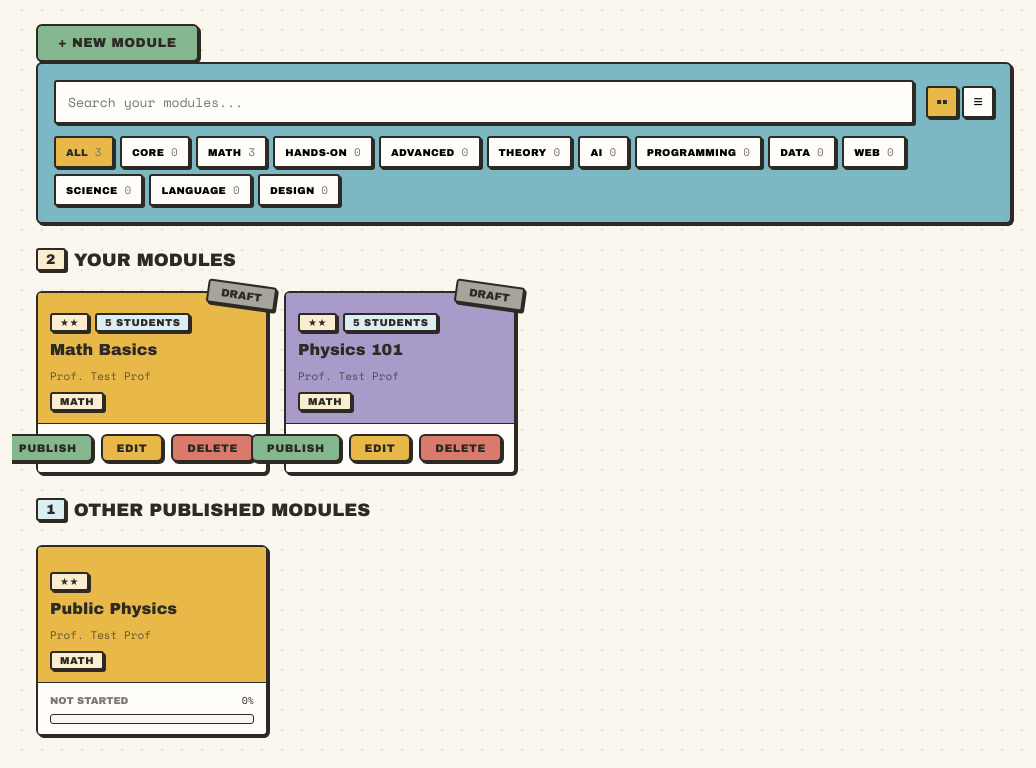
Test: ProfessorModules › search input filters visible modules
The width and height of the screenshot is (1036, 768).
Expected: the text "Math Basics" is shown, [50,341,157,358]
Step 1. Type "Physics" into the field with placeholder "Search your modules..." → (484, 102), box [54,80,914,124]
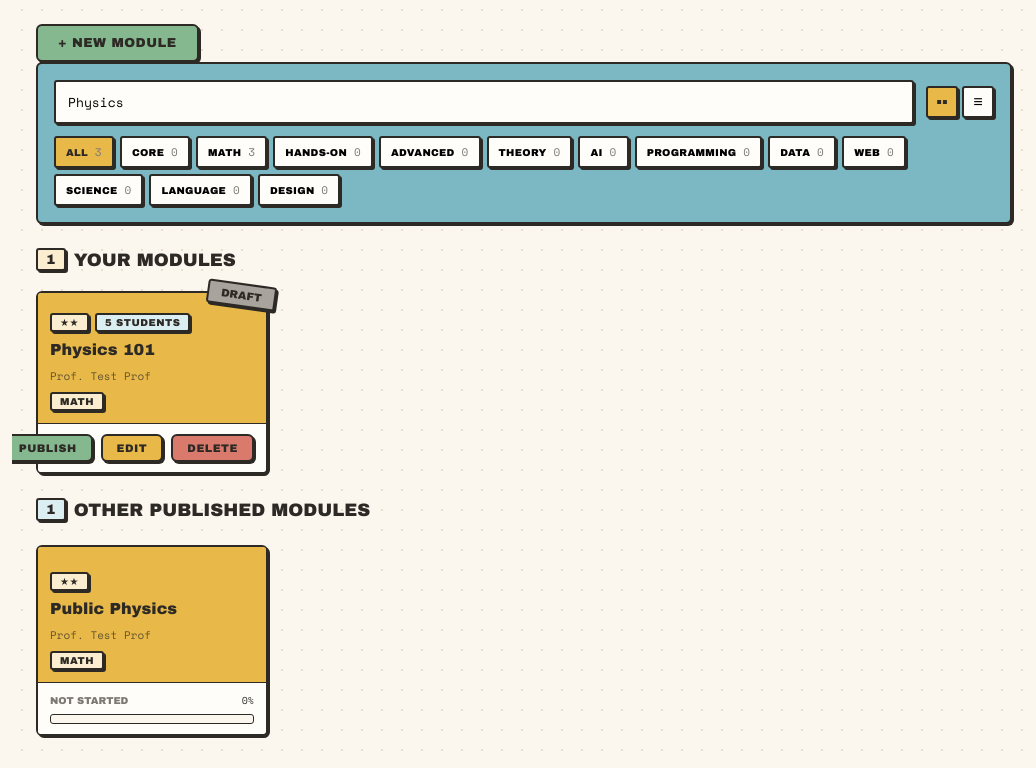
Expected: the text "Physics 101" is shown, [50,341,155,358]
Expected: the text "Math Basics" is gone
